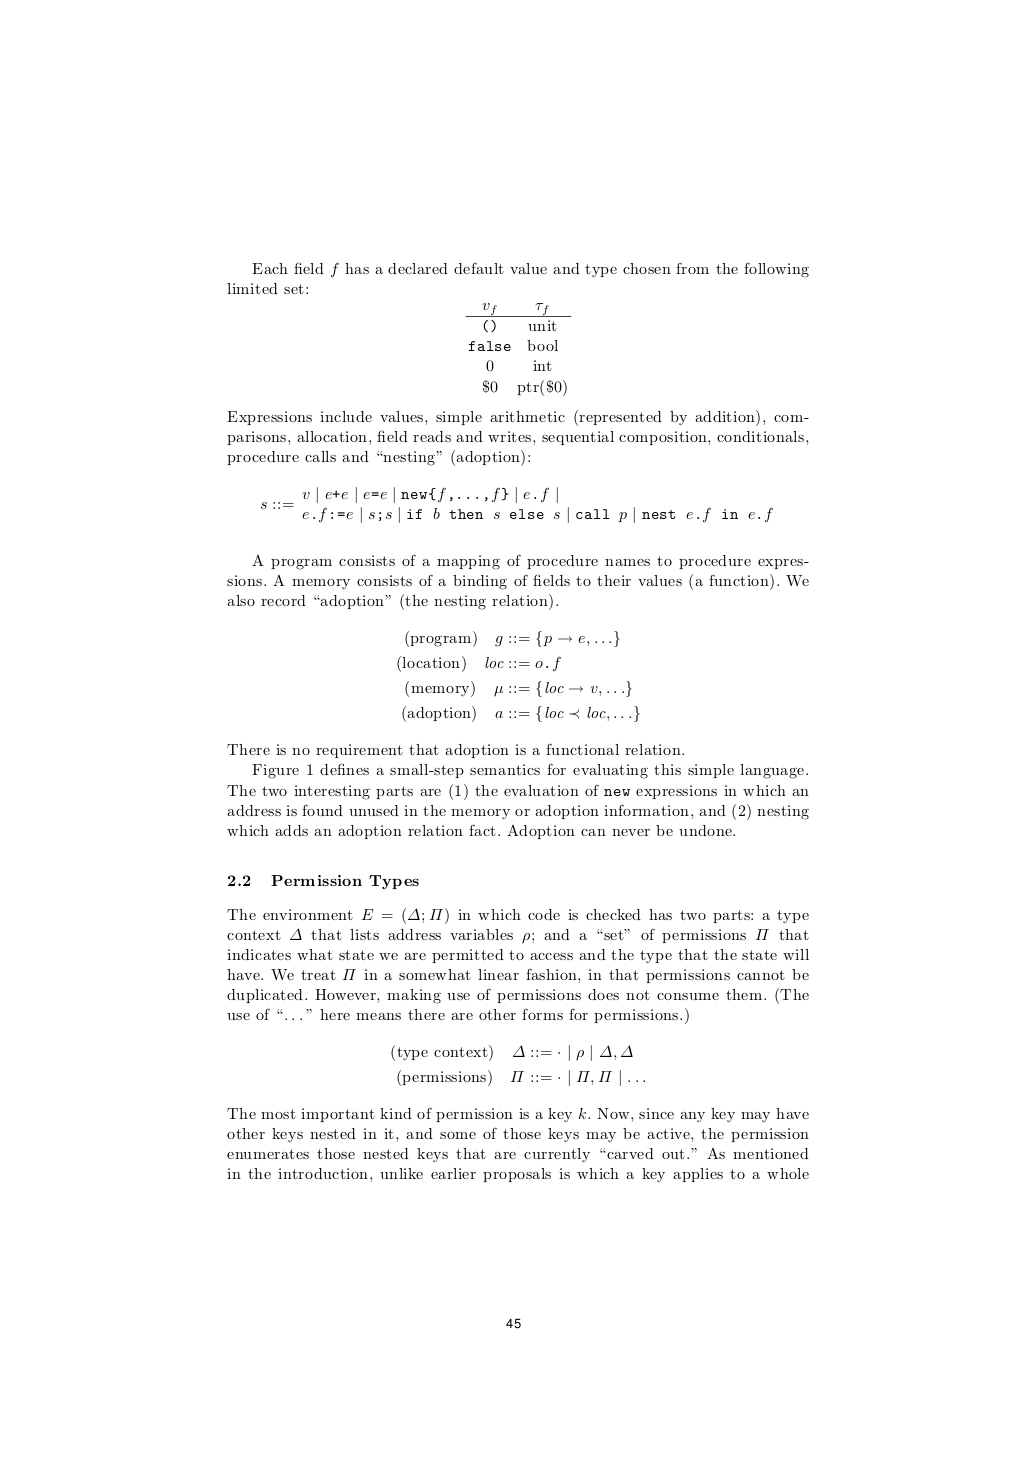Table: (465, 303, 571, 395)
formula: (260, 486, 772, 523), (397, 1069, 644, 1086), (391, 1044, 632, 1061), (402, 705, 639, 722), (405, 680, 632, 697), (405, 630, 619, 647), (397, 655, 560, 671)
